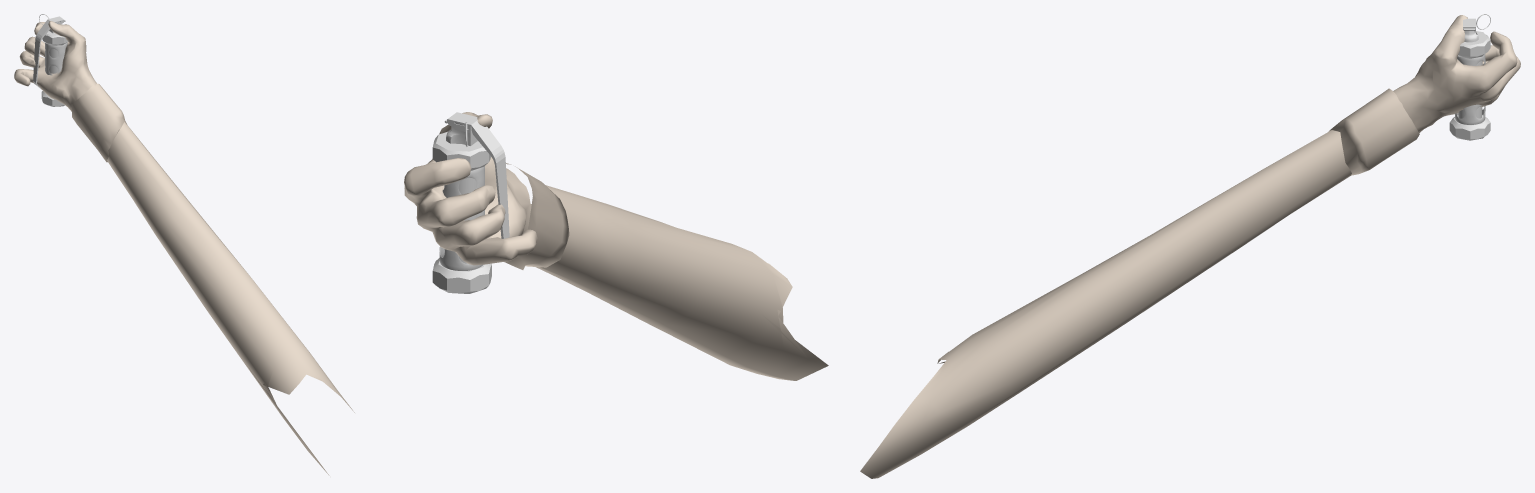
File: flashbang.glb
3 renders of one model, left to right at view 1: azimuth 30°, elevation 25°; view 2: azimuth 150°, elevation 25°; view 3: azimuth 270°, elevation 25°, orthographic. The views are drawn at different scales.
Visible parts, largest first — view 1: char, body; view 2: char, body; view 3: char, body.
Part boxes in pixels (<box>): char: <box>14,21,354,475</box>; body: <box>33,14,68,106</box>; char: <box>404,112,828,380</box>; body: <box>432,112,509,293</box>; char: <box>860,15,1520,478</box>; body: <box>1449,14,1490,140</box>.
Size of the model in its own units: 0.239 by 0.55 by 0.791.
